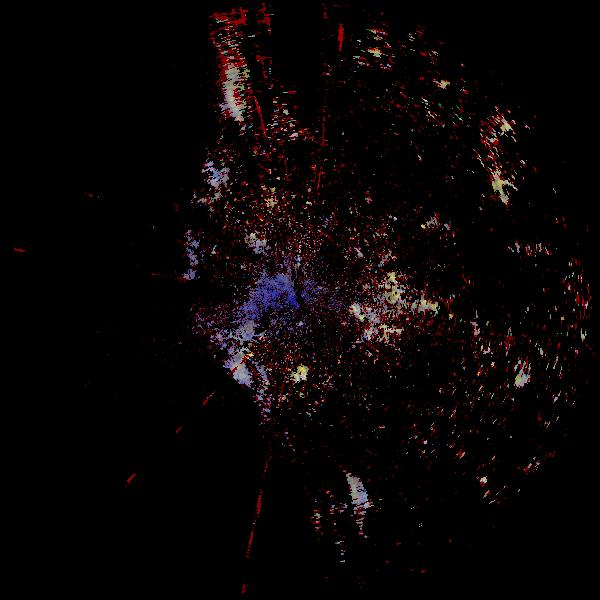roost: (290, 361, 314, 385)
